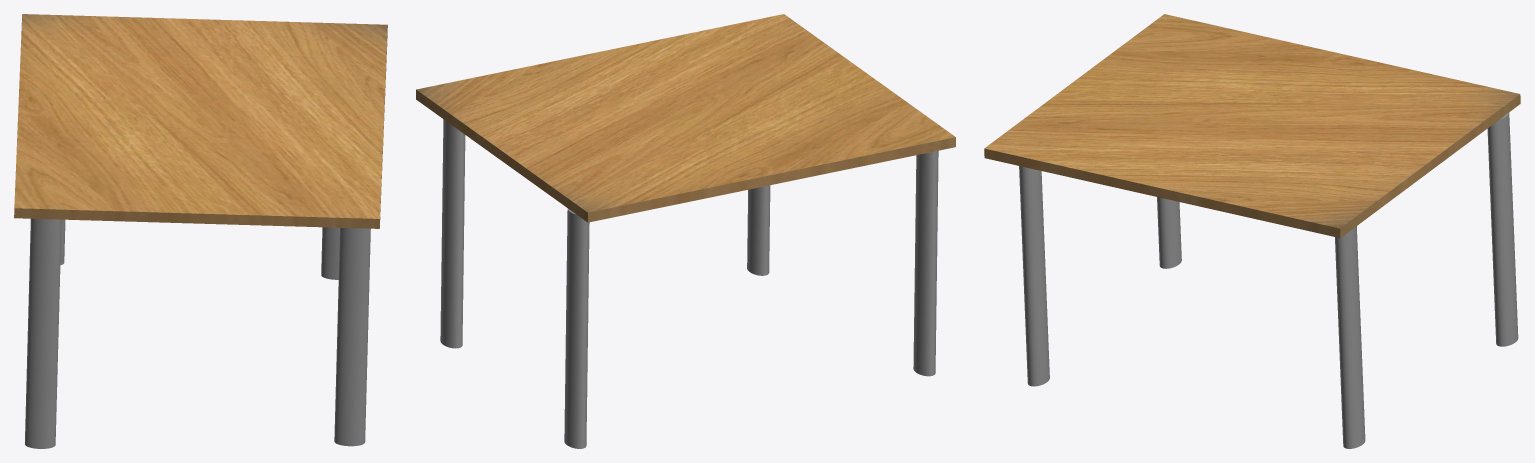
Rendered from table.glb.
The picture shows the model from 3 angles, left to right: view 1: azimuth 30°, elevation 25°; view 2: azimuth 150°, elevation 25°; view 3: azimuth 270°, elevation 25°; orthographic projection. The views are drawn at different scales.
Visible parts, largest first — view 1: node_id32, node_id34, node_id36, node_id38; view 2: node_id32, node_id30, node_id34, node_id38, node_id36; view 3: node_id32, node_id30, node_id36, node_id38, node_id34.
Part boxes in pixels (bbox=[...]): node_id32: bbox=[14, 14, 387, 228]; node_id34: bbox=[25, 218, 61, 448]; node_id36: bbox=[334, 227, 370, 446]; node_id38: bbox=[321, 227, 339, 279]; node_id32: bbox=[416, 14, 955, 222]; node_id30: bbox=[564, 208, 589, 448]; node_id34: bbox=[913, 150, 938, 376]; node_id38: bbox=[440, 119, 465, 348]; node_id36: bbox=[747, 185, 770, 275]; node_id32: bbox=[984, 14, 1520, 238]; node_id30: bbox=[1487, 112, 1518, 346]; node_id36: bbox=[1019, 166, 1049, 386]; node_id38: bbox=[1335, 226, 1365, 448]; node_id34: bbox=[1157, 197, 1181, 268].
Size of the model in its own units: 0.512 by 0.2761 by 0.5342.
Materials: 5 (1 with a texture image).
